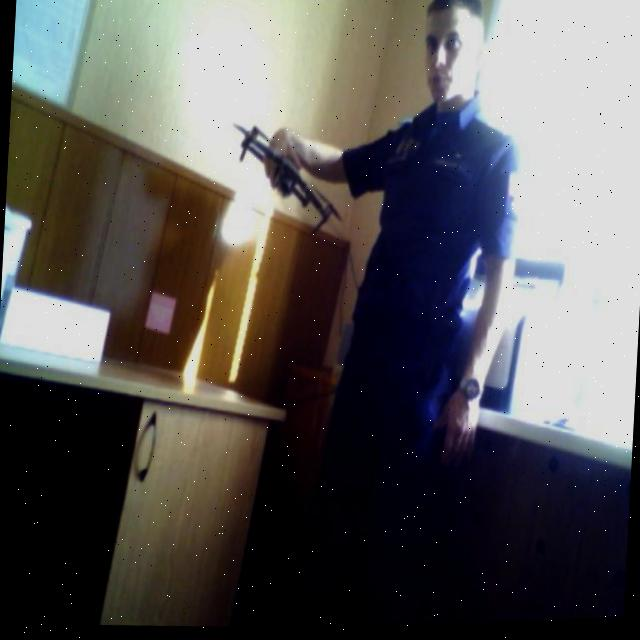drone: (220, 103, 348, 253)
